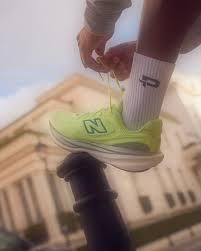NB logo: (80, 114, 110, 137)
sock logo: (122, 52, 178, 128)
